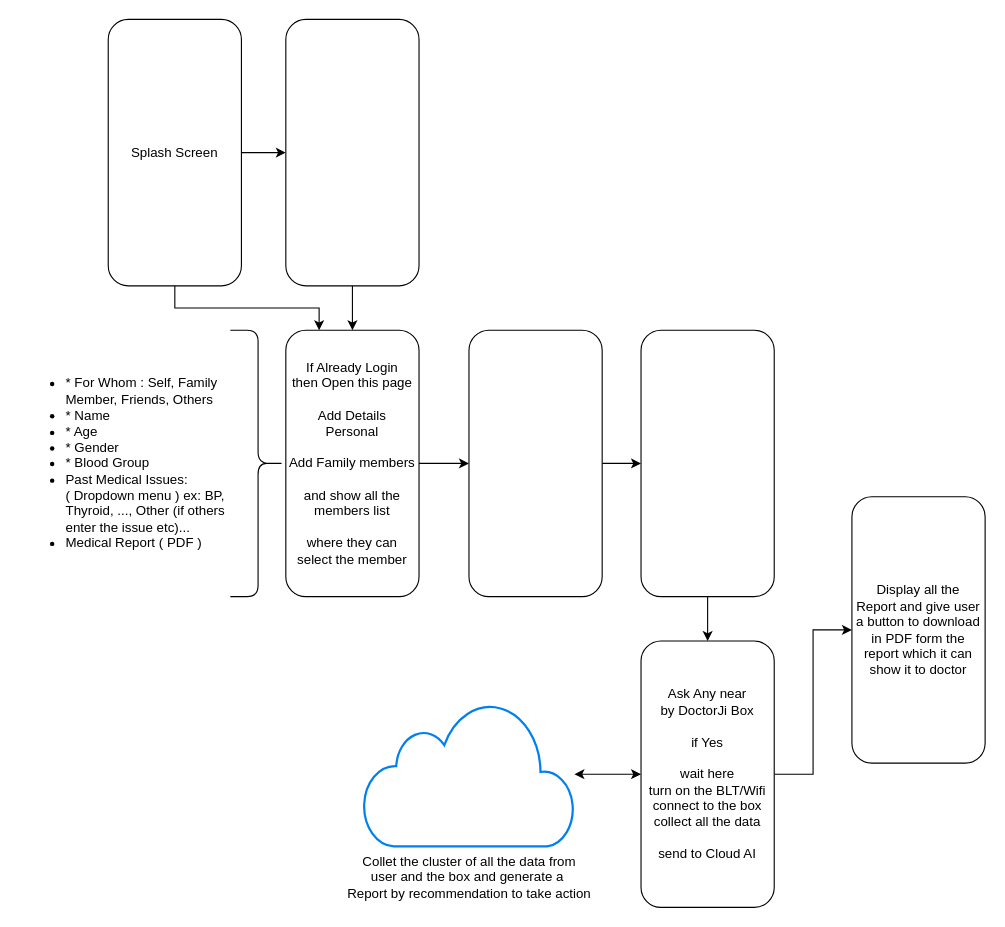
The diagram is 1005 pixels wide and 927 high, and some of its shapes have lost their labels. Each missing label, with the centre of its shape:
"Ask MCQ A form page" belongs at point 535,463.
"Chat/Text format take additional details of the problem" belongs at point 707,463.
"Login Page using Gmail" belongs at point 352,152.
